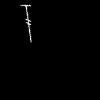treble_crochet: (22, 5, 30, 39)
